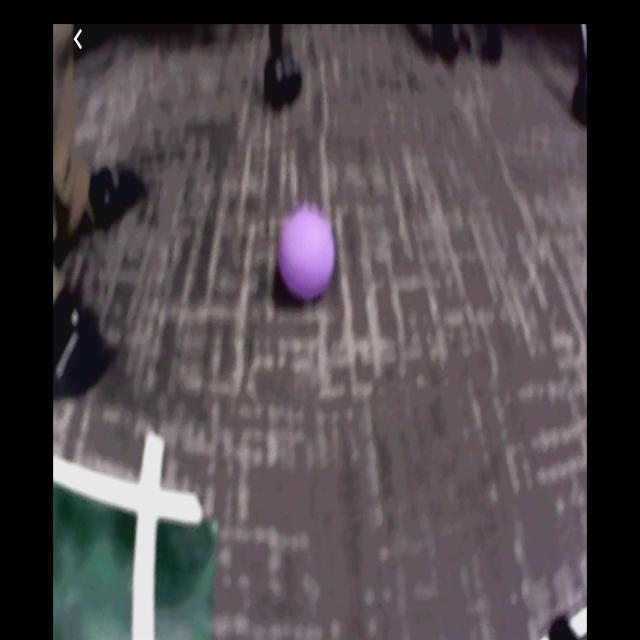ball: (280, 207, 334, 297)
